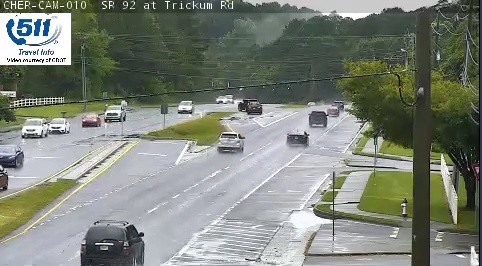car: (80, 221, 145, 266), (217, 132, 243, 147), (286, 130, 308, 145), (309, 112, 327, 125)
